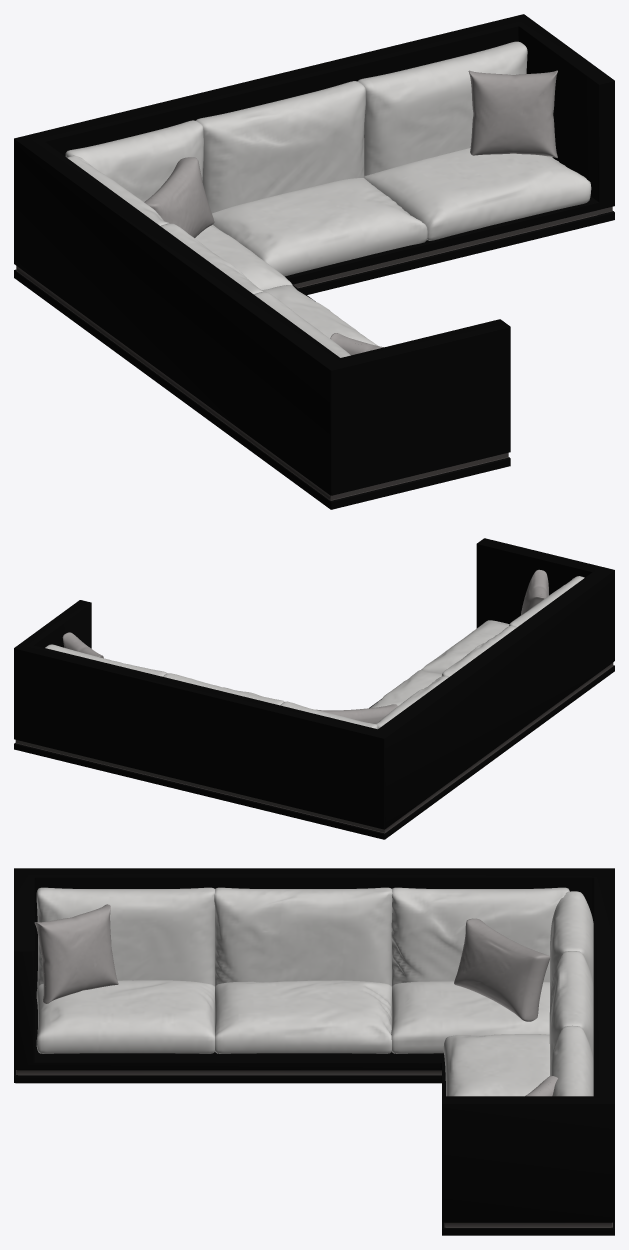
The model's file is sofa-29.glb.
The picture shows the model from 3 angles, top to bottom: view 1: azimuth 30°, elevation 25°; view 2: azimuth 150°, elevation 25°; view 3: azimuth 270°, elevation 25°; orthographic projection. The views are drawn at different scales.
Visible parts, largest first — view 1: Frame, Sofa, Pillows, Frame_Trim_0; view 2: Frame, Sofa, Frame_Trim_0, Pillows; view 3: Sofa, Frame, Pillows, Frame_Trim_0.
Boxes of the visible parts, <box> form: Frame: <box>14,14,614,509</box>; Sofa: <box>65,41,591,357</box>; Pillows: <box>144,70,557,355</box>; Frame_Trim_0: <box>16,206,612,500</box>; Frame: <box>14,538,614,839</box>; Sofa: <box>45,576,584,729</box>; Frame_Trim_0: <box>15,662,613,833</box>; Pillows: <box>62,569,548,723</box>; Sofa: <box>36,887,593,1096</box>; Frame: <box>14,868,614,1235</box>; Pillows: <box>34,904,557,1096</box>; Frame_Trim_0: <box>16,1070,612,1227</box>.
Bounding box in the file's own units: 18.87 × 4.93 × 20.33.
4 materials, 4 textured.
